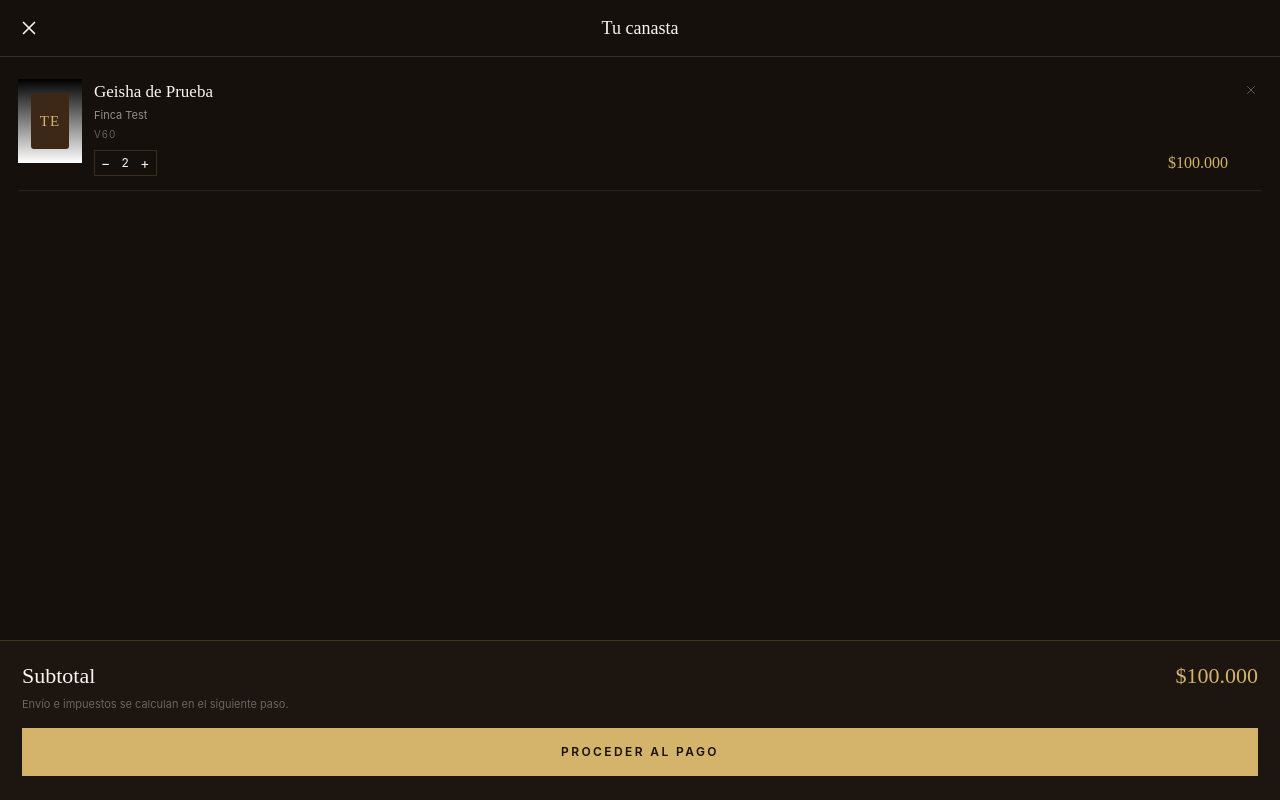
Test: CartView — checkout › con 'Recoger en tienda' no exige dirección
Click the button "PROCEDER AL PAGO".
click(640, 752)  # box [22,728,1258,776]
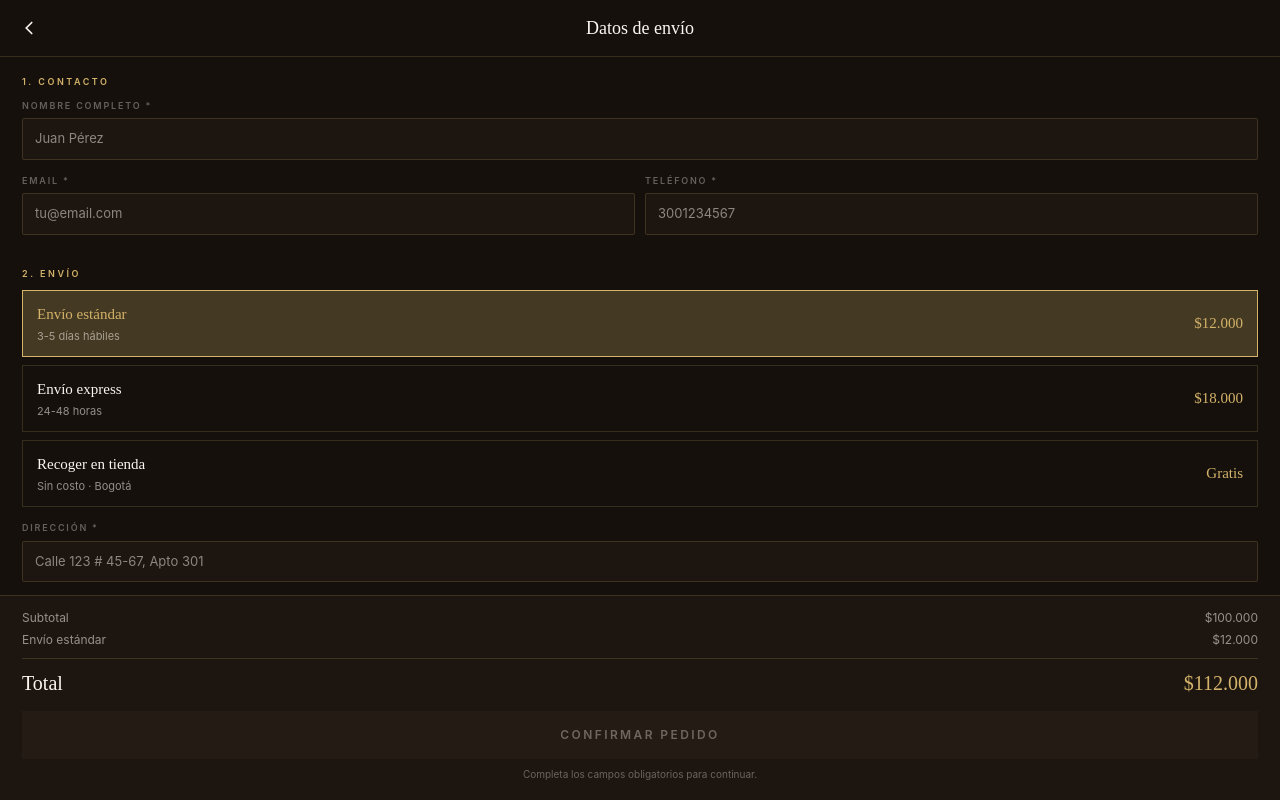
Type "Ana Prueba" into the field with placeholder "Juan Pérez".
click(640, 139); type("Ana Prueba")  # box [22,118,1258,160]
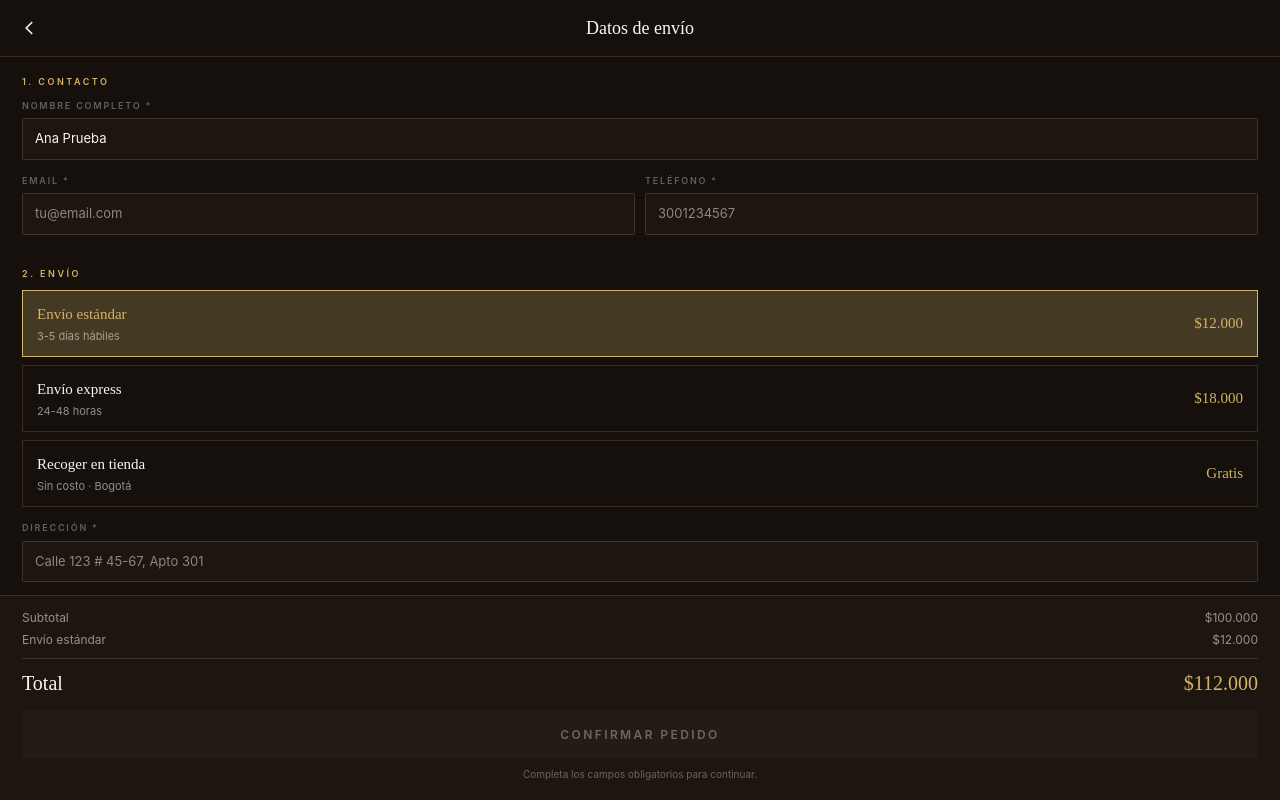
Type "ana@test.com" into the field with placeholder "tu@email.com".
click(328, 214); type("ana@test.com")  # box [22,193,635,234]
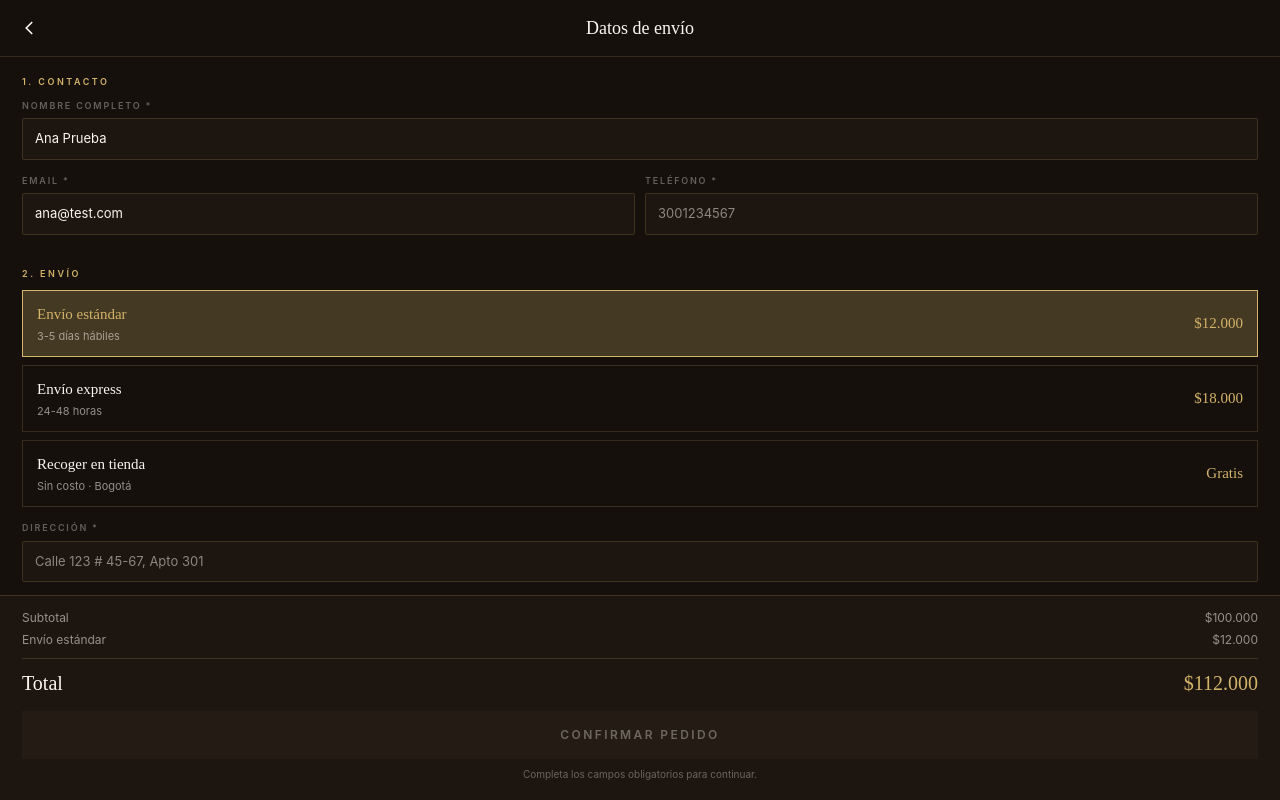
Type "3009998877" into the field with placeholder "3001234567".
click(952, 214); type("3009998877")  # box [645,193,1258,234]
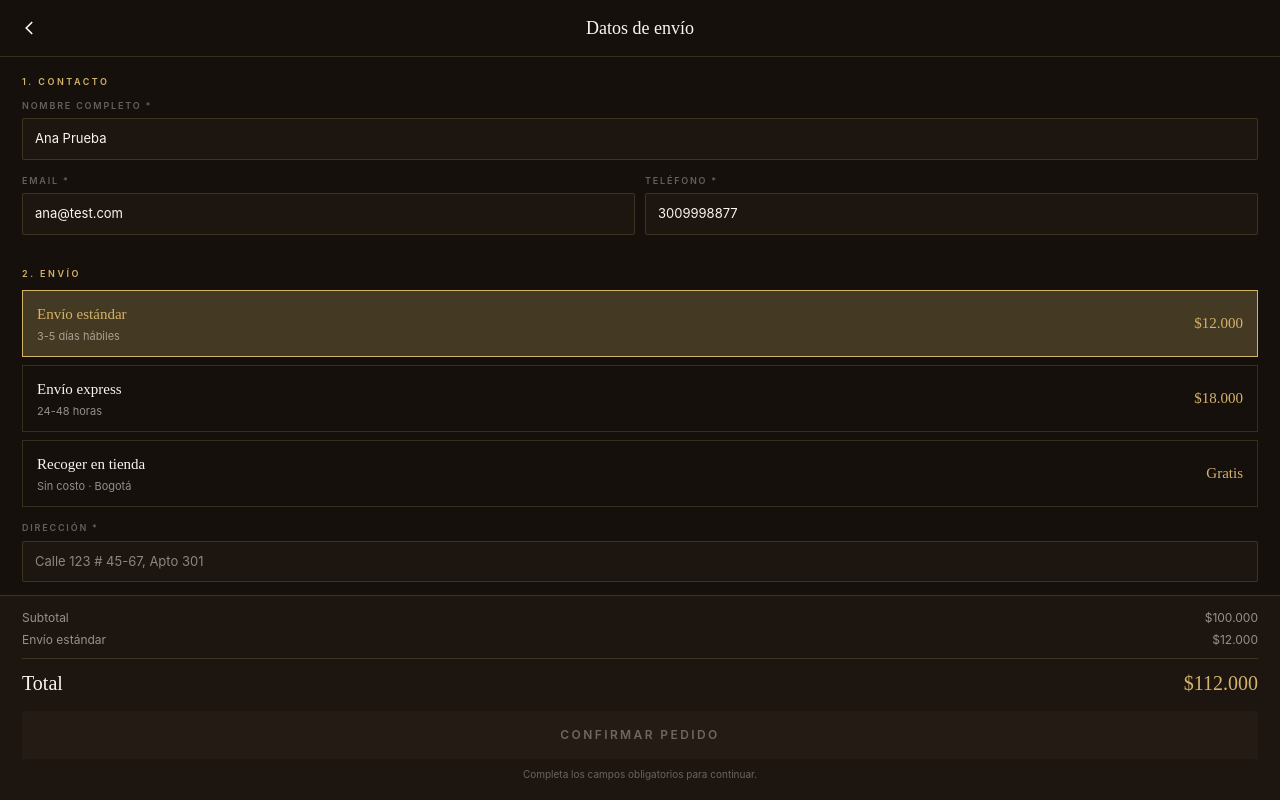
Click the text "Recoger en tienda".
click(91, 464)  # box [37,453,145,476]
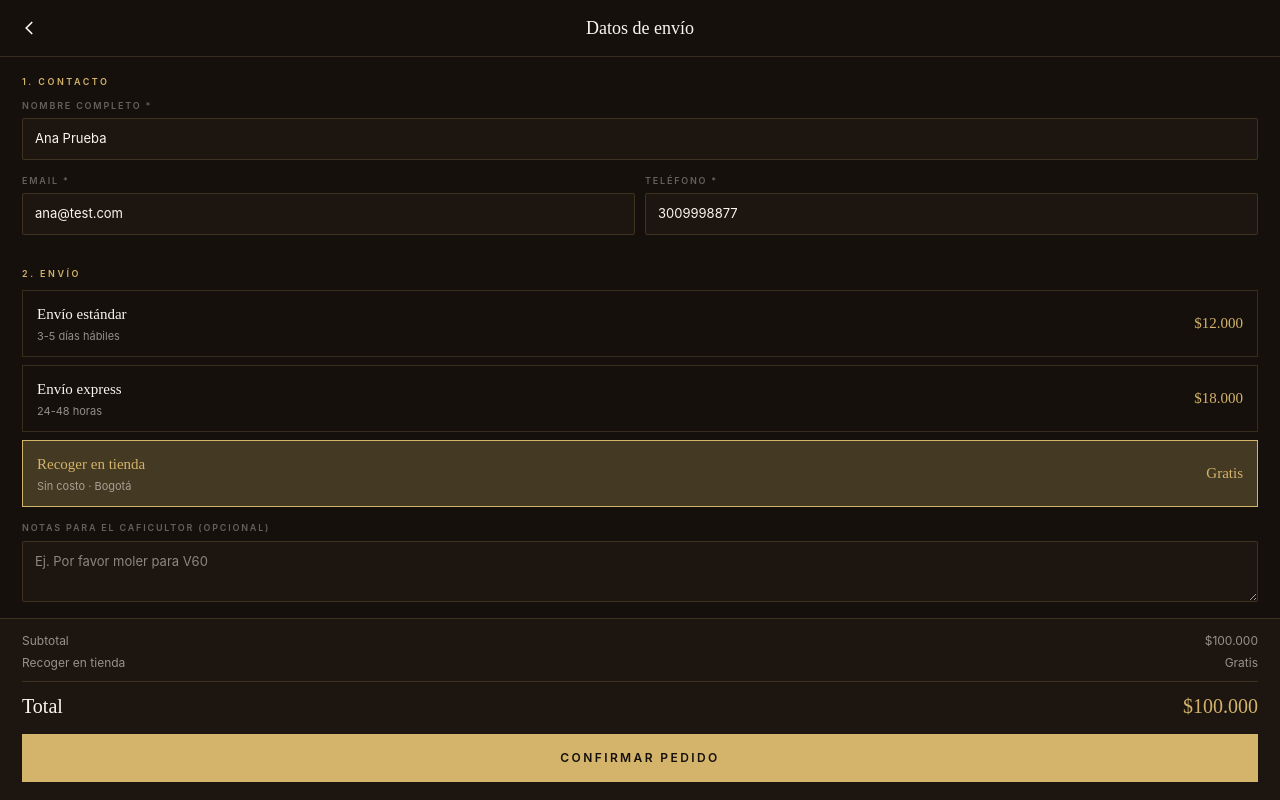
Expected: the field with placeholder "Calle 123 # 45-67, Apto 301" is not shown
Now the button "CONFIRMAR PEDIDO" is enabled, box [22,734,1258,782]
